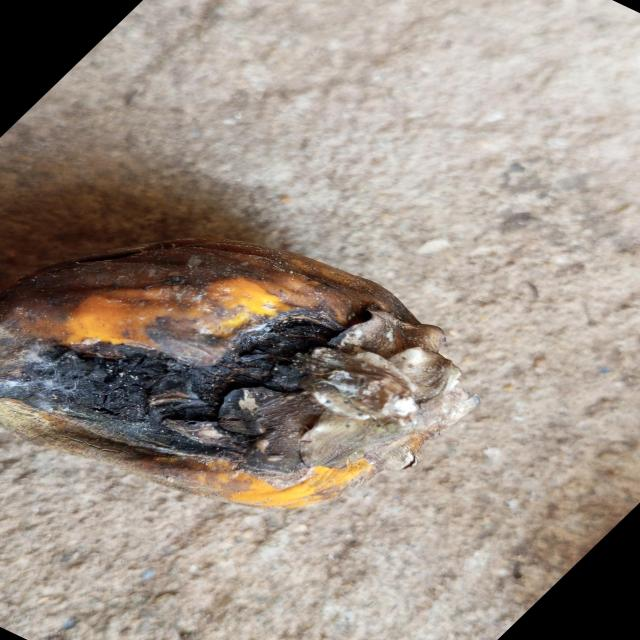damaged: (0, 241, 452, 493)
